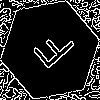F: (25, 25, 77, 78)
